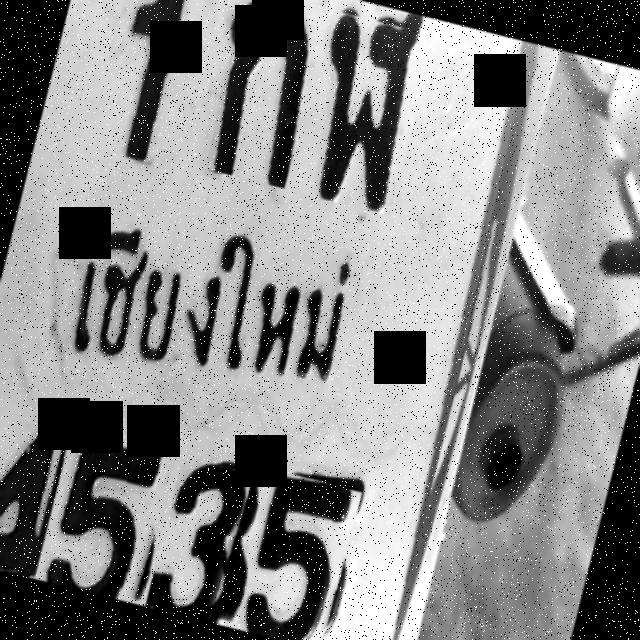letters: (290, 10, 434, 216), (188, 0, 330, 189), (34, 426, 180, 605), (85, 0, 216, 169), (235, 469, 362, 640), (144, 456, 253, 624), (0, 413, 66, 577)
license-plate: (0, 0, 541, 640)
province: (44, 186, 382, 434)
